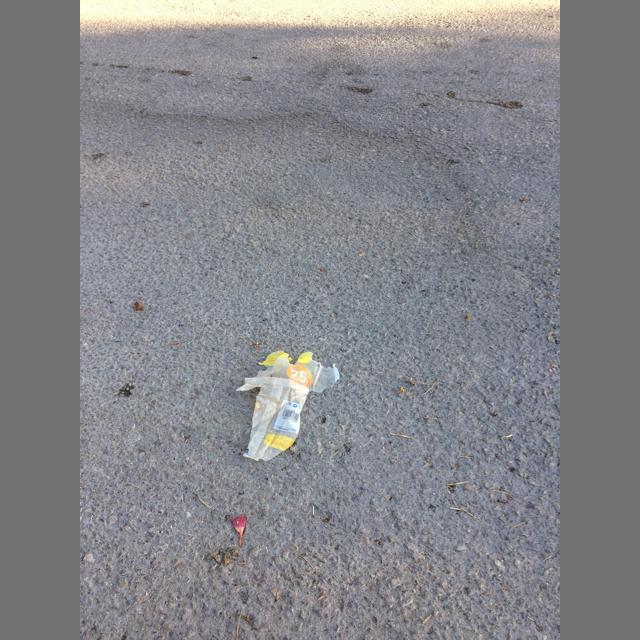litter: (235, 350, 340, 462)
